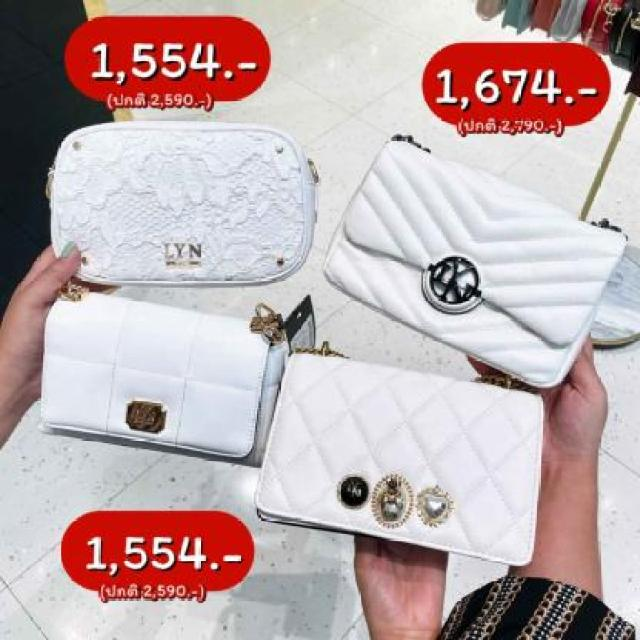Bag: (297, 96, 634, 402), (245, 315, 563, 576), (19, 91, 330, 306), (24, 278, 298, 470)
